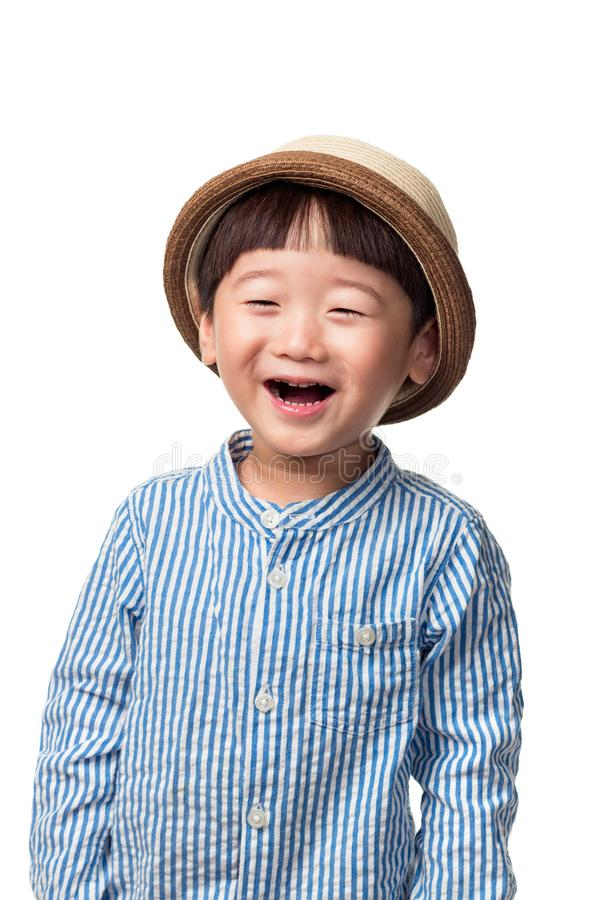bare: (208, 330, 401, 455)
